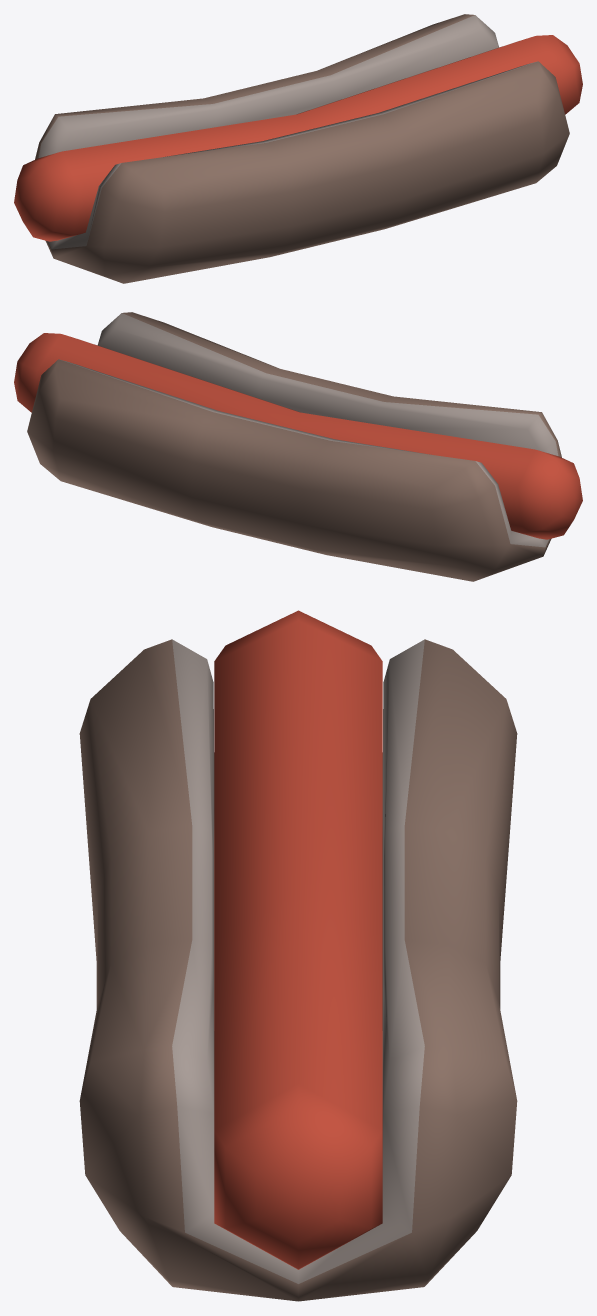
3 renders of one model, top to bottom at view 1: azimuth 30°, elevation 25°; view 2: azimuth 150°, elevation 25°; view 3: azimuth 270°, elevation 25°, orthographic. The views are drawn at different scales.
Visible parts, largest first — view 1: Hot_Dog_Hot_Dog_0; view 2: Hot_Dog_Hot_Dog_0; view 3: Hot_Dog_Hot_Dog_0.
Part boxes in pixels (x1=…): Hot_Dog_Hot_Dog_0: x1=14, y1=14, x2=582, y2=283; Hot_Dog_Hot_Dog_0: x1=14, y1=312, x2=582, y2=581; Hot_Dog_Hot_Dog_0: x1=79, y1=610, x2=517, y2=1301.
Size of the model in its own units: 24.31 by 5.57 by 8.32.
